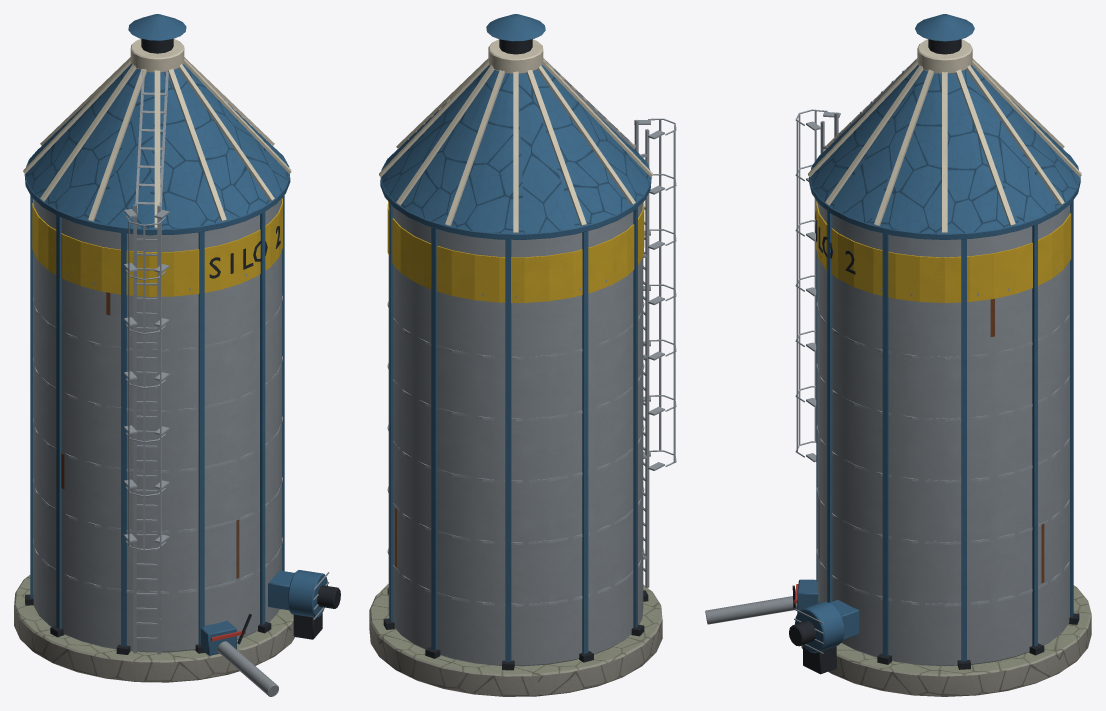
Rendered from silo_steel.glb.
3 renders of one model, left to right at view 1: azimuth 30°, elevation 25°; view 2: azimuth 150°, elevation 25°; view 3: azimuth 270°, elevation 25°, orthographic. The views are drawn at different scales.
Visible parts, largest first — view 1: silo_steel; view 2: silo_steel; view 3: silo_steel.
Part boxes in pixels (x1,y1,x2,y2): silo_steel: (14, 14, 340, 696); silo_steel: (369, 14, 676, 696); silo_steel: (705, 14, 1091, 696).
Size of the model in its own units: 5.3 by 12.33 by 6.97.
16 materials, 16 textured.
